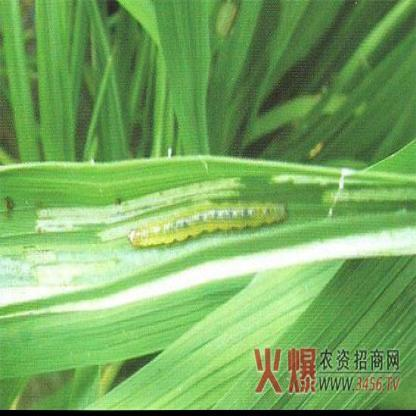leaf-folder: (123, 184, 321, 254)
